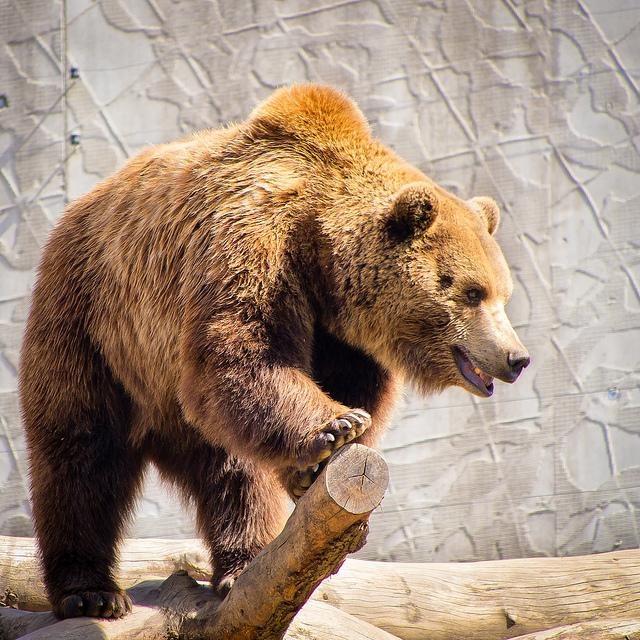Bear: (14, 72, 529, 640)
